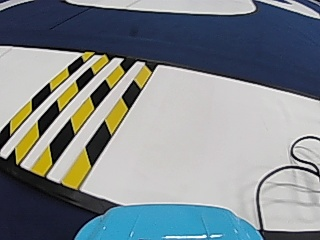bump: (3, 61, 146, 164)
